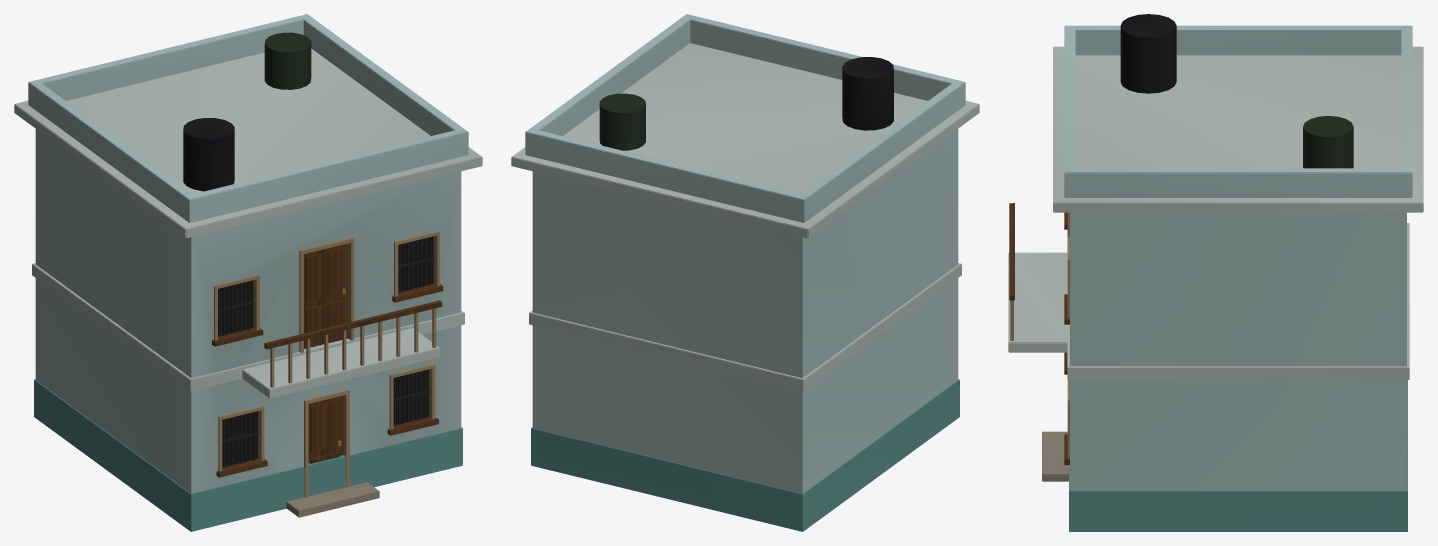
The model's file is bg_house_b.glb.
3 renders of one model, left to right at view 1: azimuth 30°, elevation 25°; view 2: azimuth 150°, elevation 25°; view 3: azimuth 270°, elevation 25°, orthographic. The views are drawn at different scales.
Parts seen in each view (by area): view 1: hb_main; view 2: hb_main; view 3: hb_main.
Part boxes in pixels (x1,y1,x2,y2): hb_main: [14, 14, 482, 531]; hb_main: [511, 14, 979, 531]; hb_main: [1008, 14, 1423, 531].
Size of the model in its own units: 6.6 by 7.7 by 7.4.
